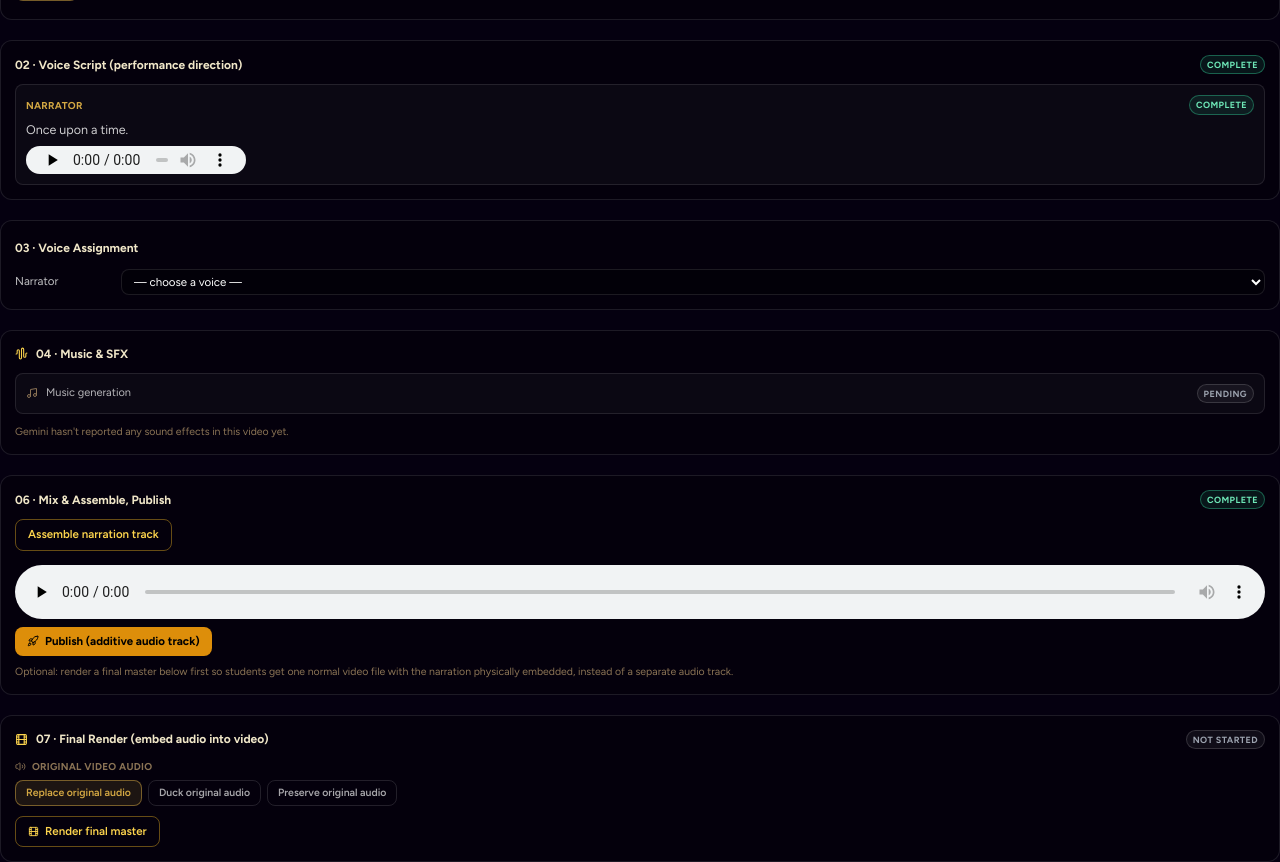
Test case: clicking Render final master calls renderNarrationMaster and shows the preview
This screenshot has width=1280, height=862.
(page scrolled)
Click the button with test id "voice-render-button" at (87, 831), box [15,816,160,847]
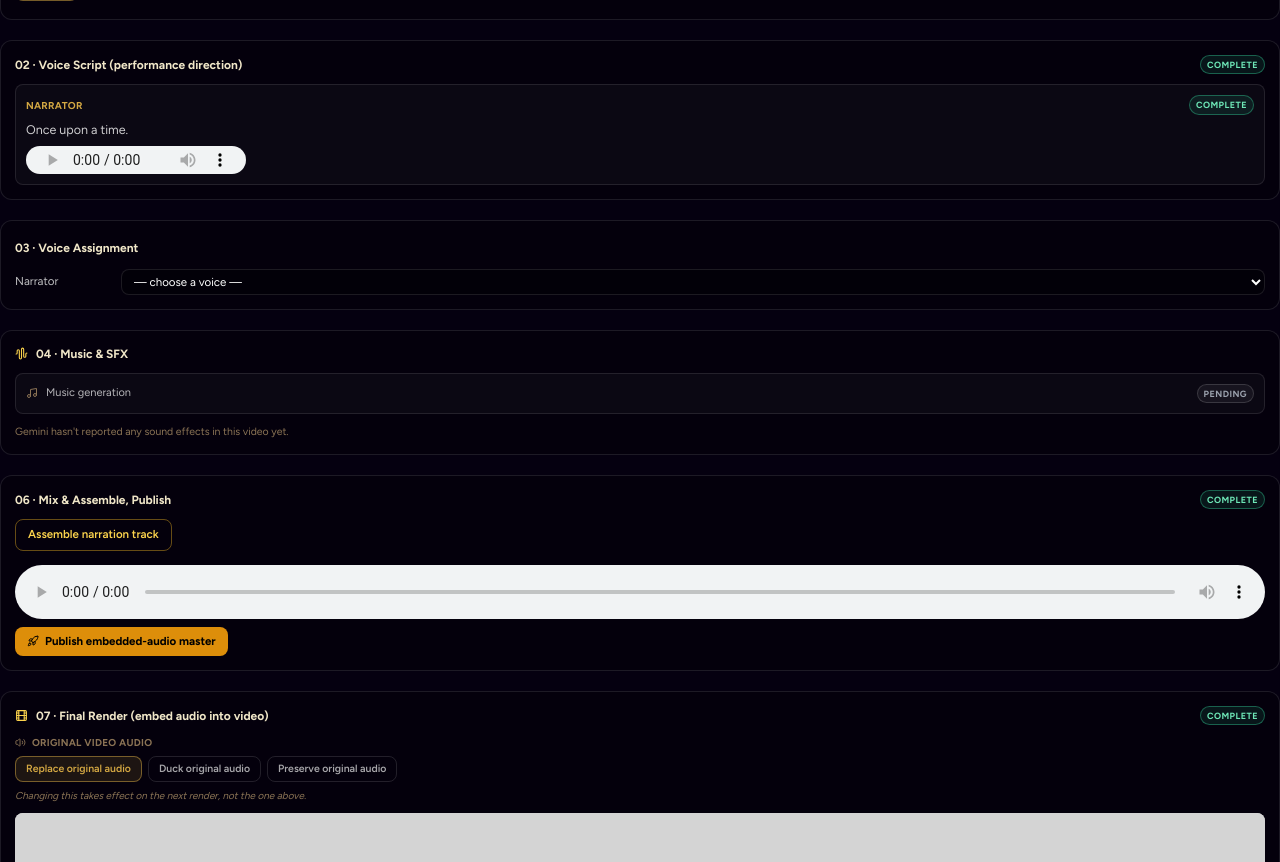
Expected: the button with test id "voice-publish-button" shows "embedded-audio master", [15,626,228,656]
